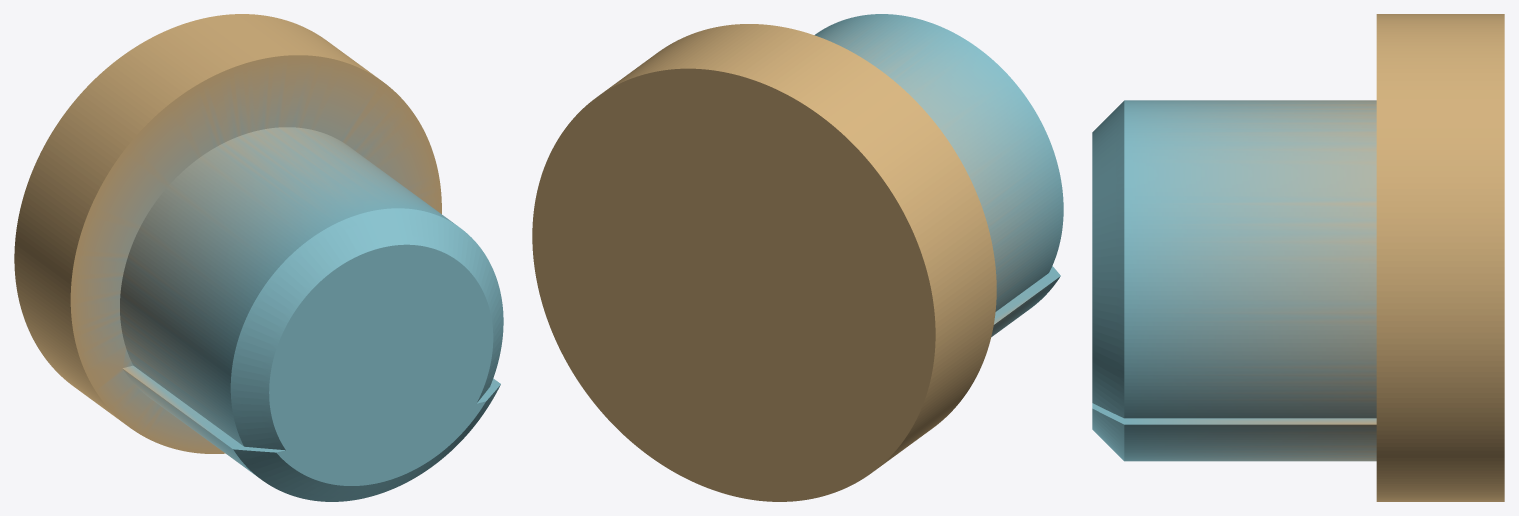
The model's file is bearing-locator.glb.
3 views of the same model, side by side, from view 1: azimuth 30°, elevation 25°; view 2: azimuth 150°, elevation 25°; view 3: azimuth 270°, elevation 25° (orthographic). The views are drawn at different scales.
Visible parts, largest first — view 1: peg-bearing-locator__v1__pf02c9-hoop5__nub120.stl; view 2: peg-bearing-locator__v1__pf02c9-hoop5__nub120.stl; view 3: peg-bearing-locator__v1__pf02c9-hoop5__nub120.stl.
Part boxes in pixels (<box>): peg-bearing-locator__v1__pf02c9-hoop5__nub120.stl: <box>14,14,503,501</box>; peg-bearing-locator__v1__pf02c9-hoop5__nub120.stl: <box>532,14,1063,501</box>; peg-bearing-locator__v1__pf02c9-hoop5__nub120.stl: <box>1092,14,1504,501</box>.
Bounding box in the file's own units: 0.00762 × 0.00762 × 0.00644.
